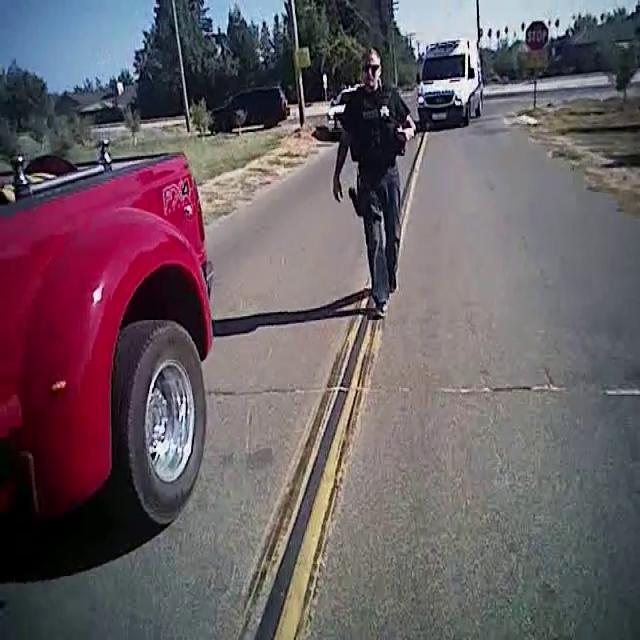gun: (344, 181, 366, 223)
